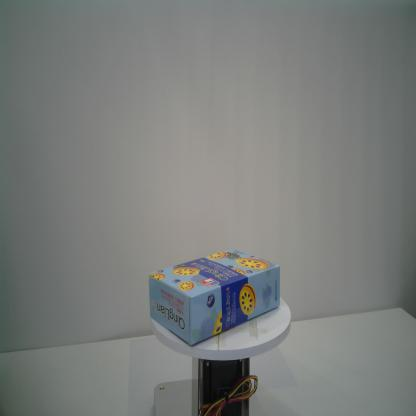Dessert: (148, 247, 281, 346)
